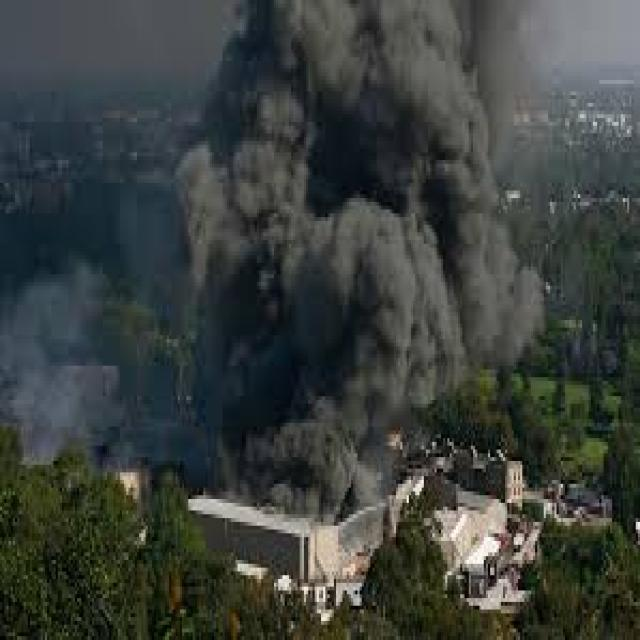Smoke: (0, 0, 557, 518)
